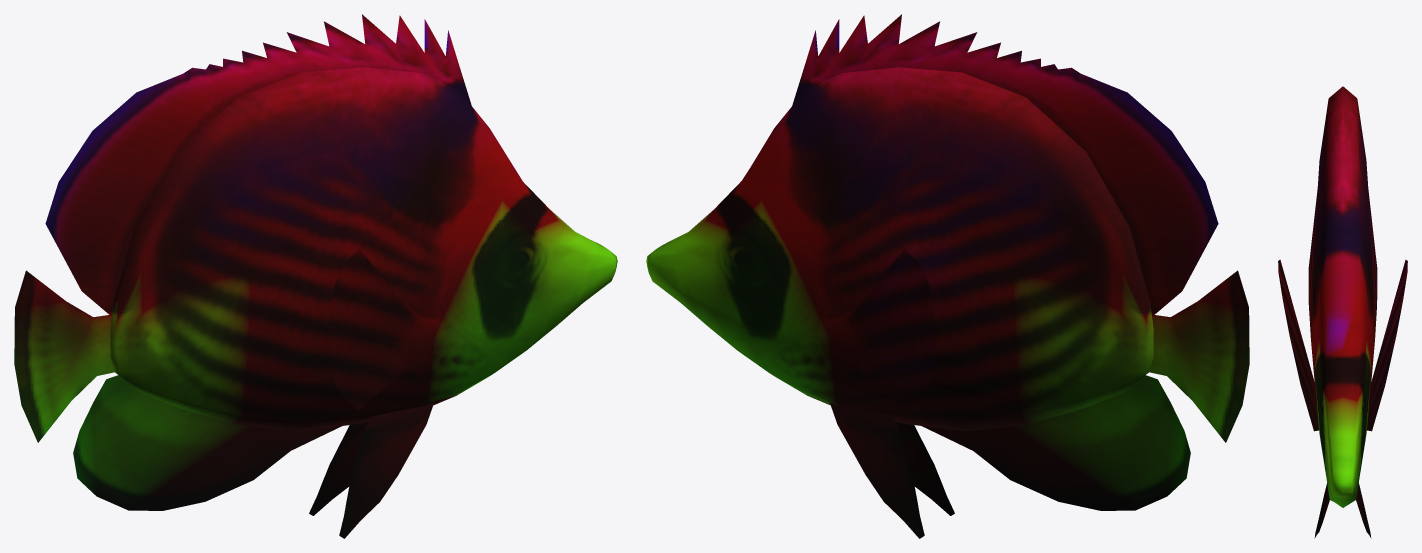
The model's file is raccoon_butterflyfish.glb.
3 views of the same model, side by side, from view 1: azimuth 30°, elevation 25°; view 2: azimuth 150°, elevation 25°; view 3: azimuth 270°, elevation 25° (orthographic). The views are drawn at different scales.
Visible parts, largest first — view 1: RaccoonButterflyfish; view 2: RaccoonButterflyfish; view 3: RaccoonButterflyfish.
Boxes of the visible parts, x1,y1,x2,y2 form: RaccoonButterflyfish: (14,14,617,538); RaccoonButterflyfish: (646,14,1249,538); RaccoonButterflyfish: (1278,86,1407,538).
Bounding box in the file's own units: 1 × 0.8042 × 0.2044.
1 material, 1 textured.
